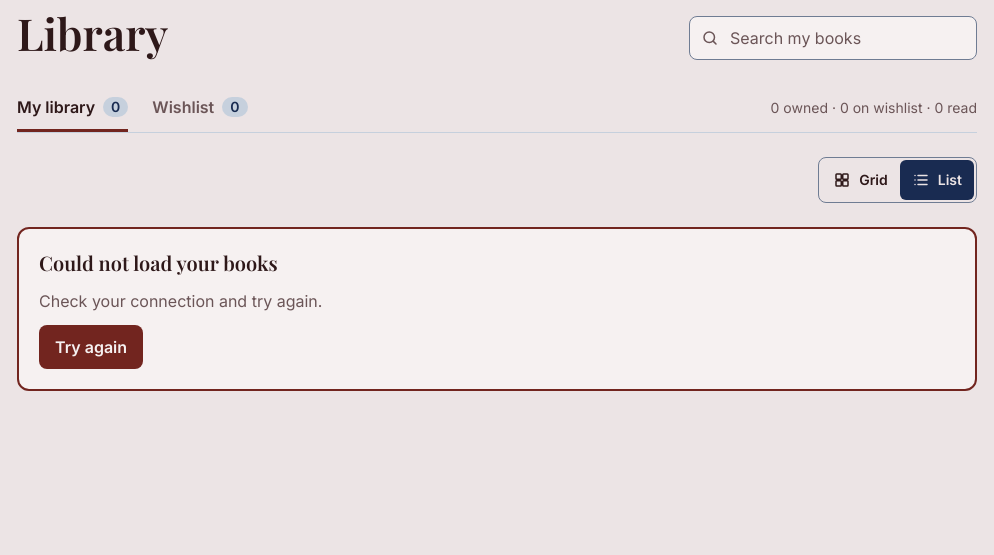
Scenario: Library › filters and states › shows a retry card when the shelves cannot be loaded, and loads them on retry
Expected: the text "Could not load your books" is shown, top-left (39, 249), bottom-right (278, 276)
Click the button "Try again" at (91,347), box top-left (39, 325), bottom-right (143, 369)
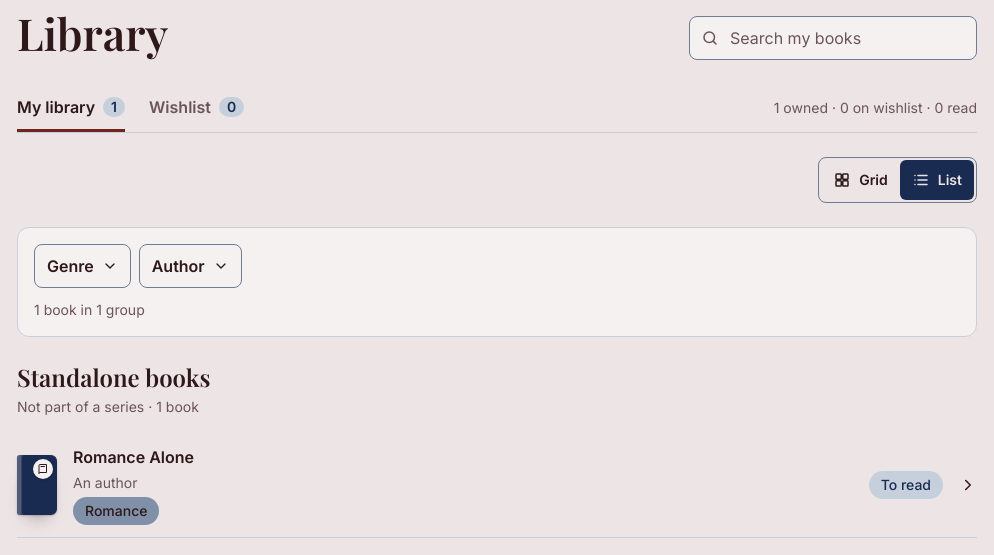
Now the text "Romance Alone" is shown, box top-left (73, 447), bottom-right (194, 467)
